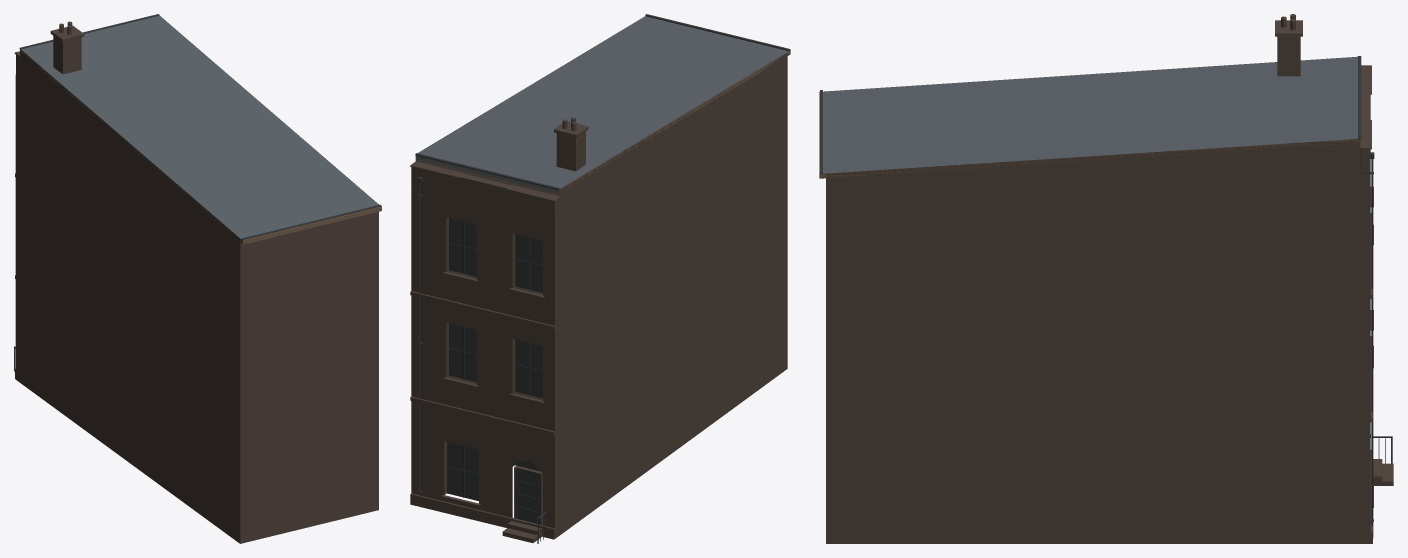
The model's file is terrace1-3.glb.
3 views of the same model, side by side, from view 1: azimuth 30°, elevation 25°; view 2: azimuth 150°, elevation 25°; view 3: azimuth 270°, elevation 25° (orthographic). The views are drawn at different scales.
Parts seen in each view (by area): view 1: terrace1-3; view 2: terrace1-3; view 3: terrace1-3.
Part boxes in pixels (bbox=[...]): terrace1-3: bbox=[14, 14, 381, 543]; terrace1-3: bbox=[410, 14, 790, 543]; terrace1-3: bbox=[819, 14, 1393, 543].
Size of the model in its own units: 5.03 by 12.91 by 14.78.
